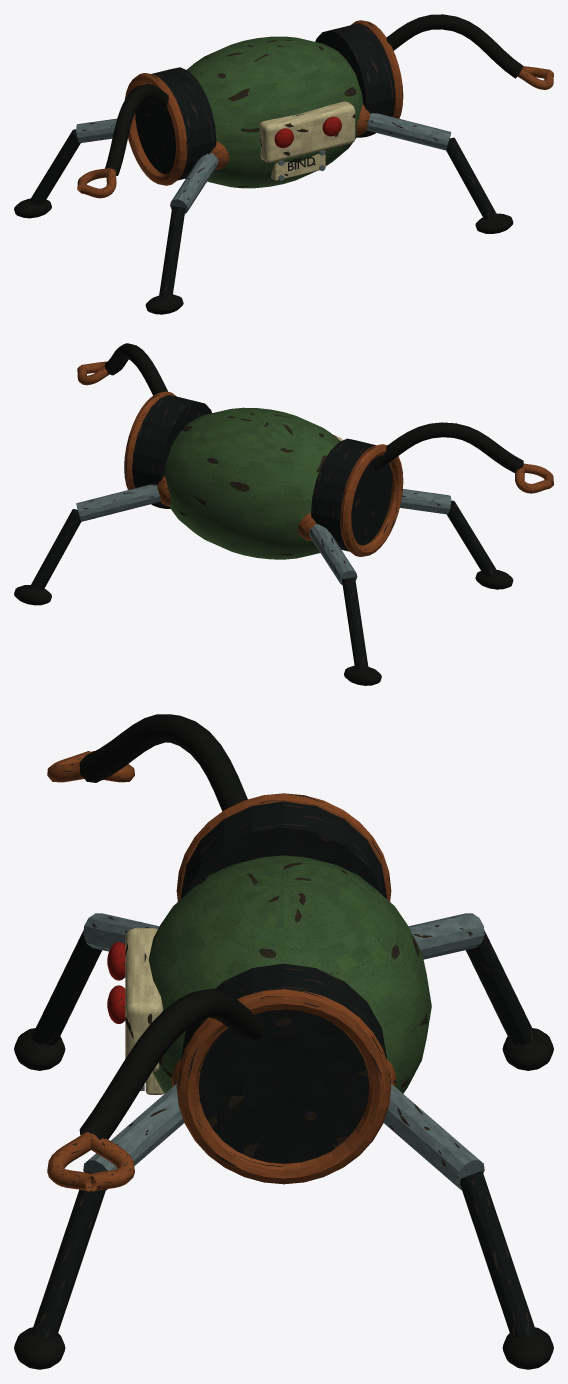
File: eq-bindercrawler.glb
3 views of the same model, one above another, from view 1: azimuth 30°, elevation 25°; view 2: azimuth 150°, elevation 25°; view 3: azimuth 270°, elevation 25° (orthographic). The views are drawn at different scales.
Parts seen in each view (by area): view 1: Armored body, Cable reel, Cable reel.001, Face mask, Binding cable.001, Reel rim, Binding cable, Upper leg.002, Lower leg, Lower leg.002, Upper leg, Lower leg.001 (+8 smaller); view 2: Armored body, Cable reel, Cable reel.001, Reel rim, Binding cable, Upper leg.003, Binding cable.001, Lower leg.001, Lower leg.003, Upper leg.001, Lower leg, Upper leg (+5 smaller); view 3: Armored body, Cable reel.001, Reel rim.001, Cable reel, Binding cable.001, Binding cable, Lower leg.003, Lower leg.002, Upper leg.003, Face mask, Upper leg.002, Lower leg.001 (+11 smaller).
Boxes of the visible parts, left/top/right/bottom form: Armored body: left=187, top=36, right=362, bottom=188; Cable reel: left=135, top=67, right=216, bottom=180; Cable reel.001: left=315, top=23, right=395, bottom=136; Face mask: left=259, top=101, right=355, bottom=162; Binding cable.001: left=386, top=14, right=523, bottom=78; Reel rim: left=124, top=73, right=187, bottom=185; Binding cable: left=105, top=84, right=168, bottom=175; Upper leg.002: left=366, top=113, right=451, bottom=150; Lower leg: left=159, top=206, right=185, bottom=298; Lower leg.002: left=446, top=137, right=497, bottom=219; Upper leg: left=170, top=152, right=218, bottom=213; Lower leg.001: left=30, top=129, right=80, bottom=205; Armored body: left=164, top=407, right=340, bottom=559; Cable reel: left=311, top=438, right=392, bottom=551; Cable reel.001: left=132, top=395, right=211, bottom=507; Reel rim: left=340, top=444, right=403, bottom=556; Binding cable: left=374, top=422, right=523, bottom=472; Upper leg.003: left=76, top=484, right=160, bottom=521; Binding cable.001: left=104, top=343, right=167, bottom=395; Lower leg.001: left=342, top=577, right=368, bottom=669; Lower leg.003: left=30, top=509, right=80, bottom=590; Upper leg.001: left=309, top=524, right=357, bottom=584; Lower leg: left=446, top=500, right=497, bottom=576; Upper leg: left=400, top=489, right=451, bottom=514; Armored body: left=148, top=855, right=431, bottom=1093; Cable reel.001: left=181, top=963, right=386, bottom=1163; Reel rim.001: left=176, top=989, right=391, bottom=1184; Cable reel: left=181, top=801, right=386, bottom=898; Binding cable.001: left=79, top=988, right=264, bottom=1139; Binding cable: left=79, top=714, right=247, bottom=811; Lower leg.003: left=460, top=1171, right=535, bottom=1337; Lower leg.002: left=32, top=1171, right=105, bottom=1337; Upper leg.003: left=383, top=1083, right=484, bottom=1190; Face mask: left=125, top=928, right=163, bottom=1071; Upper leg.002: left=83, top=1083, right=184, bottom=1190; Lower leg.001: left=465, top=930, right=535, bottom=1045.
Bounding box in the file's own units: 1.58 × 0.608 × 0.84.
Materials: 7 (7 with a texture image).
